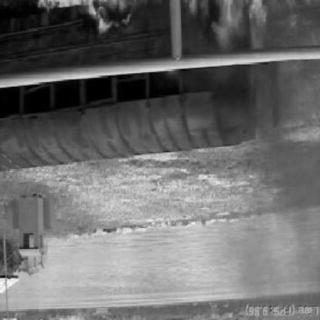Fire: (11, 3, 320, 106)
